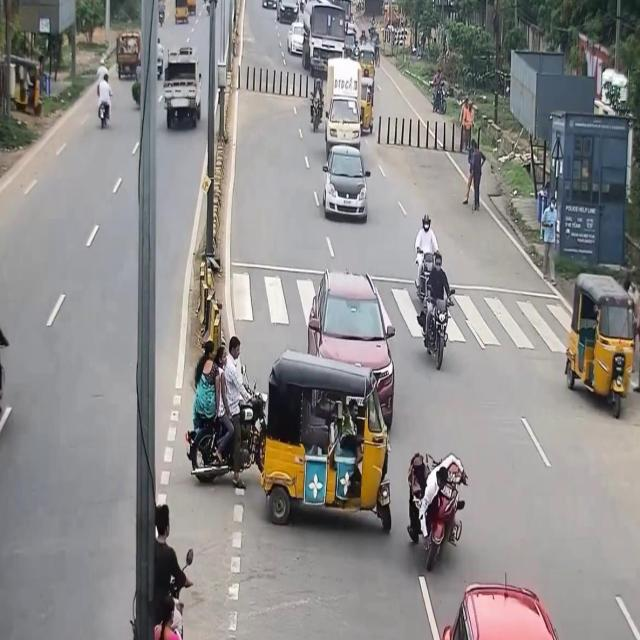accident: (257, 350, 469, 571)
non_accident: (282, 0, 378, 240), (256, 0, 308, 28), (171, 0, 201, 31)
